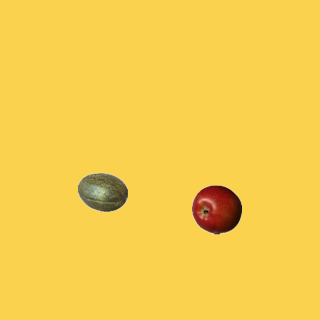Apple Braeburn: (191, 184, 241, 234)
Melon Piel de Sapo: (77, 167, 127, 217)
